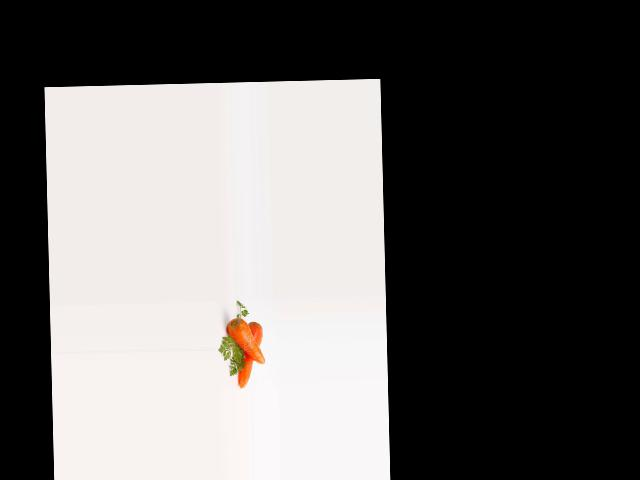carrot: (236, 320, 264, 389)
